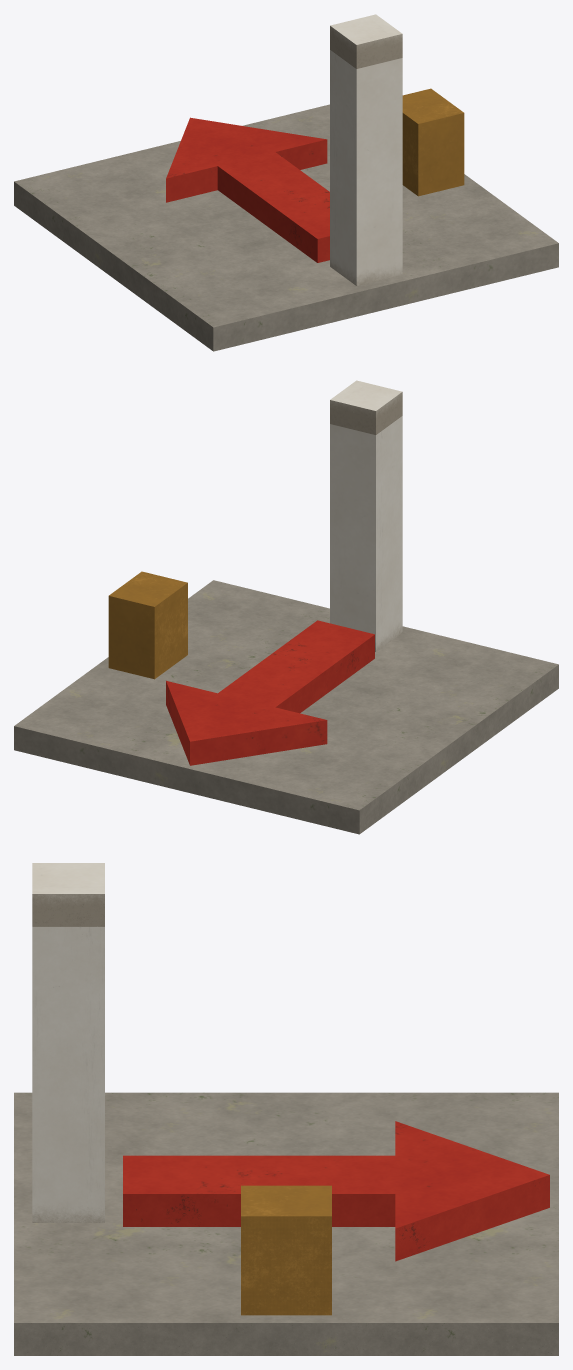
File: HO_Test_Orientation.fbx
3 renders of one model, top to bottom at view 1: azimuth 30°, elevation 25°; view 2: azimuth 150°, elevation 25°; view 3: azimuth 270°, elevation 25°, orthographic. The views are drawn at different scales.
Visible parts, largest first — view 1: HO_Test_Orientation__Stone_Granite, HO_Test_Orientation__Plaster_White, HO_Test_Orientation__Red_Lacquer, HO_Test_Orientation__Cloth_Ochre; view 2: HO_Test_Orientation__Stone_Granite, HO_Test_Orientation__Plaster_White, HO_Test_Orientation__Red_Lacquer, HO_Test_Orientation__Cloth_Ochre; view 3: HO_Test_Orientation__Stone_Granite, HO_Test_Orientation__Red_Lacquer, HO_Test_Orientation__Plaster_White, HO_Test_Orientation__Cloth_Ochre.
Boxes of the visible parts, x1,y1,x2,y2 form: HO_Test_Orientation__Stone_Granite: (14, 104, 558, 351); HO_Test_Orientation__Plaster_White: (330, 14, 402, 285); HO_Test_Orientation__Red_Lacquer: (166, 117, 329, 262); HO_Test_Orientation__Cloth_Ochre: (402, 88, 464, 196); HO_Test_Orientation__Stone_Granite: (14, 580, 558, 834); HO_Test_Orientation__Plaster_White: (330, 380, 402, 651); HO_Test_Orientation__Red_Lacquer: (166, 620, 374, 765); HO_Test_Orientation__Cloth_Ochre: (108, 571, 187, 679); HO_Test_Orientation__Stone_Granite: (14, 1092, 558, 1355); HO_Test_Orientation__Red_Lacquer: (123, 1121, 549, 1261); HO_Test_Orientation__Plaster_White: (32, 863, 104, 1222); HO_Test_Orientation__Cloth_Ochre: (241, 1185, 331, 1315).
Bounding box in the file's own units: 6 × 4.4 × 6.
